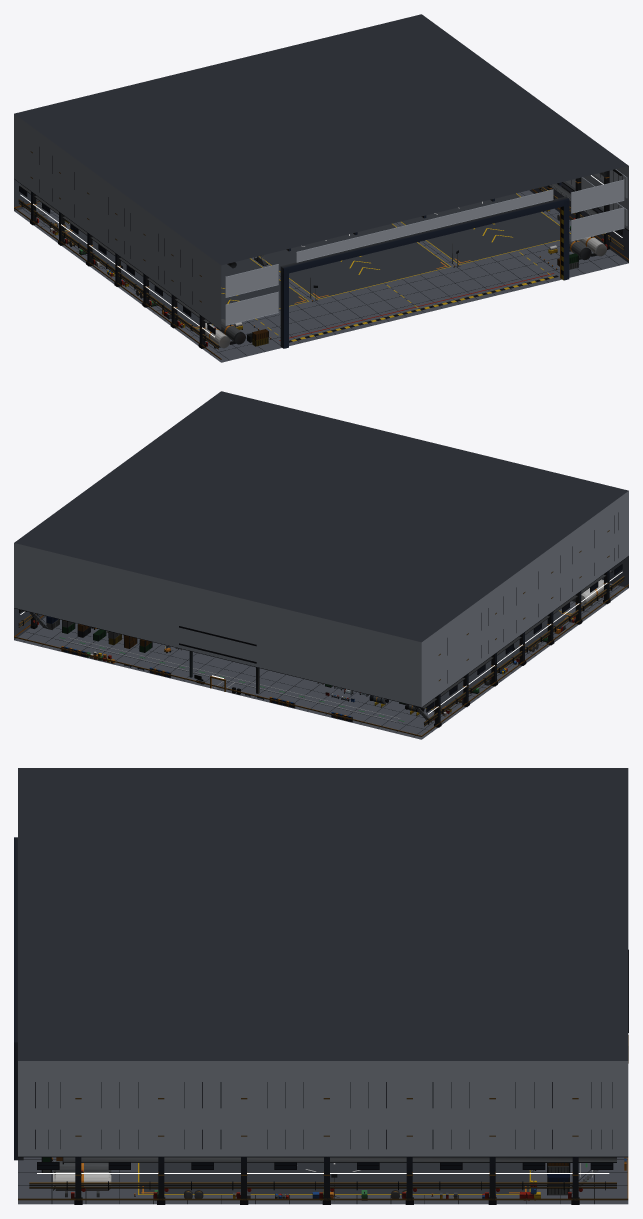
The model's file is Hangar.c2aa818d14.glb.
The picture shows the model from 3 angles, top to bottom: view 1: azimuth 30°, elevation 25°; view 2: azimuth 150°, elevation 25°; view 3: azimuth 270°, elevation 25°; orthographic projection. The views are drawn at different scales.
Visible parts, largest first — view 1: Hangar_Huelle, Hangar_Rest; view 2: Hangar_Huelle, Hangar_Rest; view 3: Hangar_Huelle, Hangar_Rest.
Part boxes in pixels (bbox=[...]): Hangar_Huelle: bbox=[14, 14, 628, 362]; Hangar_Rest: bbox=[14, 147, 628, 360]; Hangar_Huelle: bbox=[14, 391, 628, 739]; Hangar_Rest: bbox=[14, 512, 628, 737]; Hangar_Huelle: bbox=[18, 768, 628, 1204]; Hangar_Rest: bbox=[14, 837, 628, 1204].
Size of the model in its own units: 185 by 42.03 by 163.
